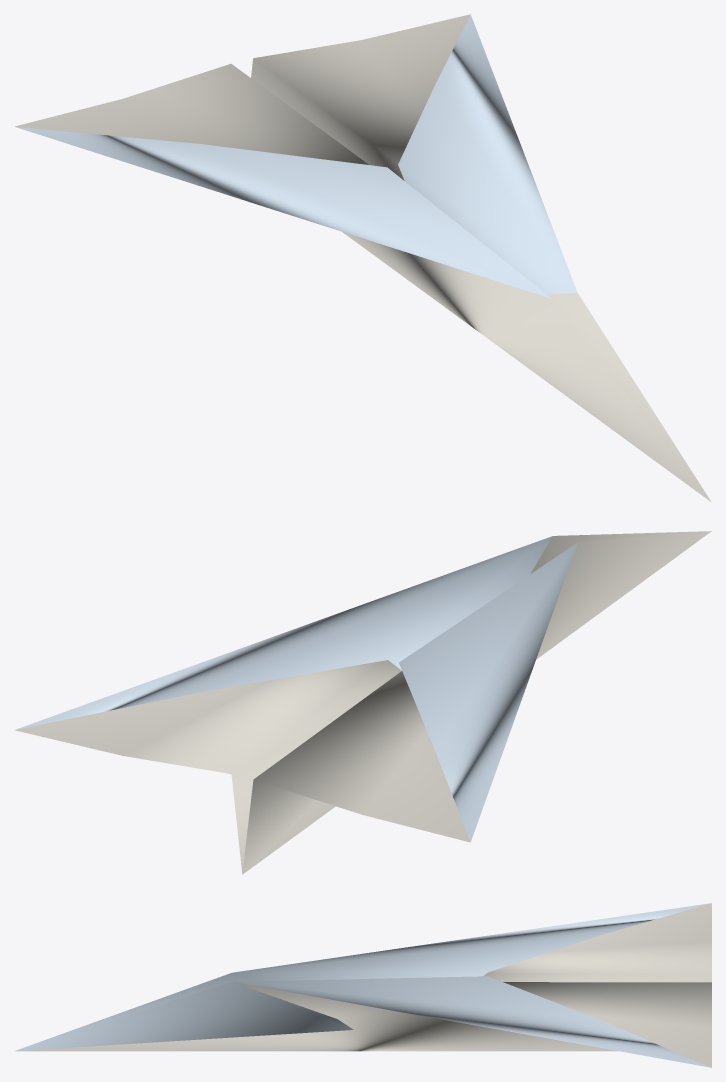
The model's file is paper-plane.glb.
3 renders of one model, top to bottom at view 1: azimuth 30°, elevation 25°; view 2: azimuth 150°, elevation 25°; view 3: azimuth 270°, elevation 25°, orthographic. The views are drawn at different scales.
Parts seen in each view (by area): view 1: PaperAirplane; view 2: PaperAirplane; view 3: PaperAirplane.
Boxes of the visible parts, x1,y1,x2,y2 form: PaperAirplane: [14, 14, 711, 502]; PaperAirplane: [14, 531, 711, 874]; PaperAirplane: [14, 903, 711, 1067].
Bounding box in the file's own units: 0.842 × 0.1821 × 1.5.
